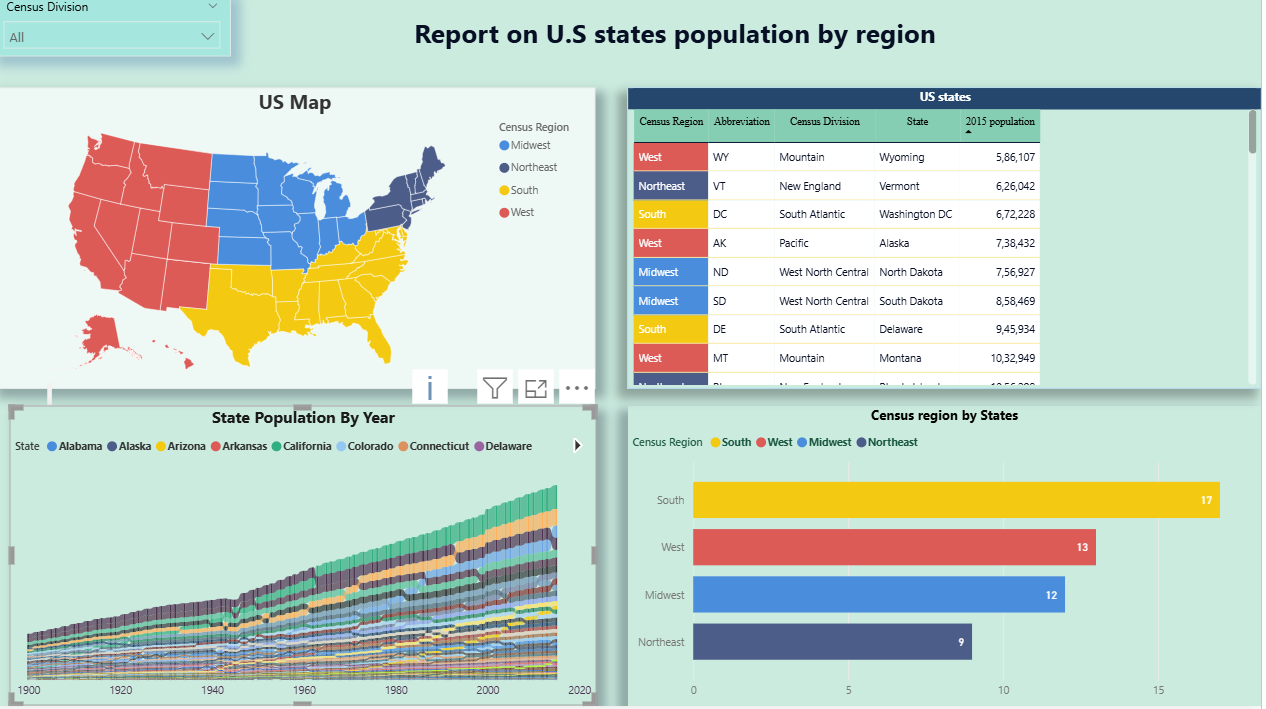

The page's visual inventory and layout, read from the dashboard file:
{"tool":"powerbi","page":{"name":"overview","canvas":[1280,720],"ordinal":0},"visuals":[{"type":"tableEx","title":"US states","fields":{"Values":["us-states.Census Region","us-states.Abbreviation","us-states.Census Division","us-states.State","us-states.2015 population"]},"box":[640,96,640,304],"z":0},{"type":"shapeMap","title":"US Map","fields":{"Category":["us-states.State"],"Series":["us-states.Census Region"],"Value":["us-states.States"]},"box":[0,96,608,304],"z":1000},{"type":"slicer","fields":{"Values":["us-states.Census Region Hierarchy.Census Region","us-states.Census Region Hierarchy.Census Division"]},"box":[0,0,240,64],"z":2000},{"type":"qnaVisual","box":[45.8,380.4,13.9,35.9],"z":3000},{"type":"ribbonChart","title":"State Population By Year","fields":{"Category":["us-population.Year"],"Y":["Sum(us-population.State population)"],"Series":["us-states.State"]},"box":[16,416,592,304],"z":4000},{"type":"barChart","title":"Census region by States","fields":{"Series":["us-states.Census Region"],"Y":["_Measures.States"],"Category":["us-states.Census Region"]},"box":[640,416,640,304],"z":5000},{"type":"textbox","box":[384,16,608,48],"z":6000}]}

Visuals, with their boxes in screenshot pixels (x1, y1, x2, y2), scaled from the page's 1280x720 canvas onto the 1266x709 screenshot:
"US states" tableEx: [x1=633, y1=95, x2=1265, y2=394]
"US Map" shapeMap: [x1=0, y1=95, x2=601, y2=394]
slicer - us-states.Census Region Hierarchy.Census Region x us-states.Census Region Hierarchy.Census Division: [x1=0, y1=0, x2=237, y2=63]
qnaVisual: [x1=45, y1=375, x2=59, y2=410]
"State Population By Year" ribbonChart: [x1=16, y1=410, x2=601, y2=708]
"Census region by States" barChart: [x1=633, y1=410, x2=1265, y2=708]
textbox: [x1=380, y1=16, x2=981, y2=63]
